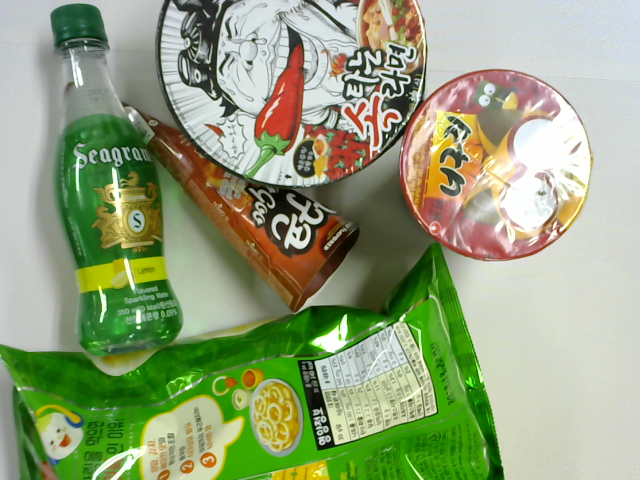GooGoo_Cone_CVS: (111, 98, 361, 307)
HeJangsock: (156, 1, 427, 186)
Oninon_Ring: (1, 236, 507, 479)
Raccoon: (398, 69, 593, 260)
Seagram_Lemon_Carbonated_Water: (47, 3, 187, 353)
